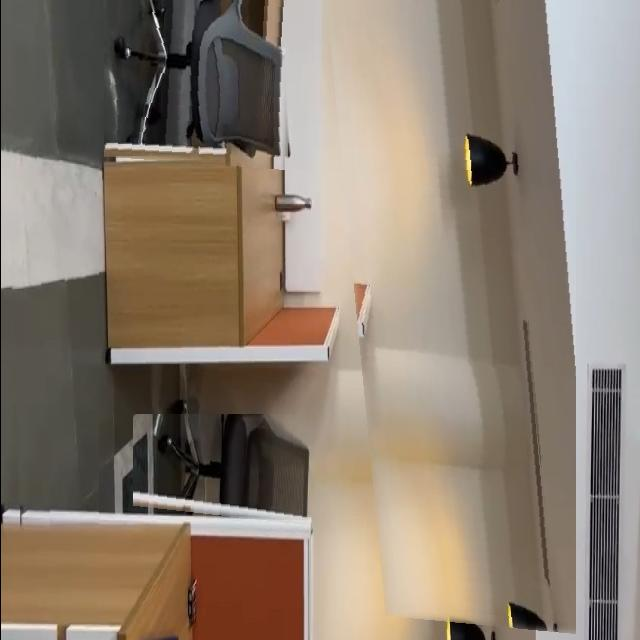floor: (0, 0, 98, 530)
furniture: (103, 0, 297, 170), (132, 414, 333, 528)
wall: (322, 0, 574, 640)
